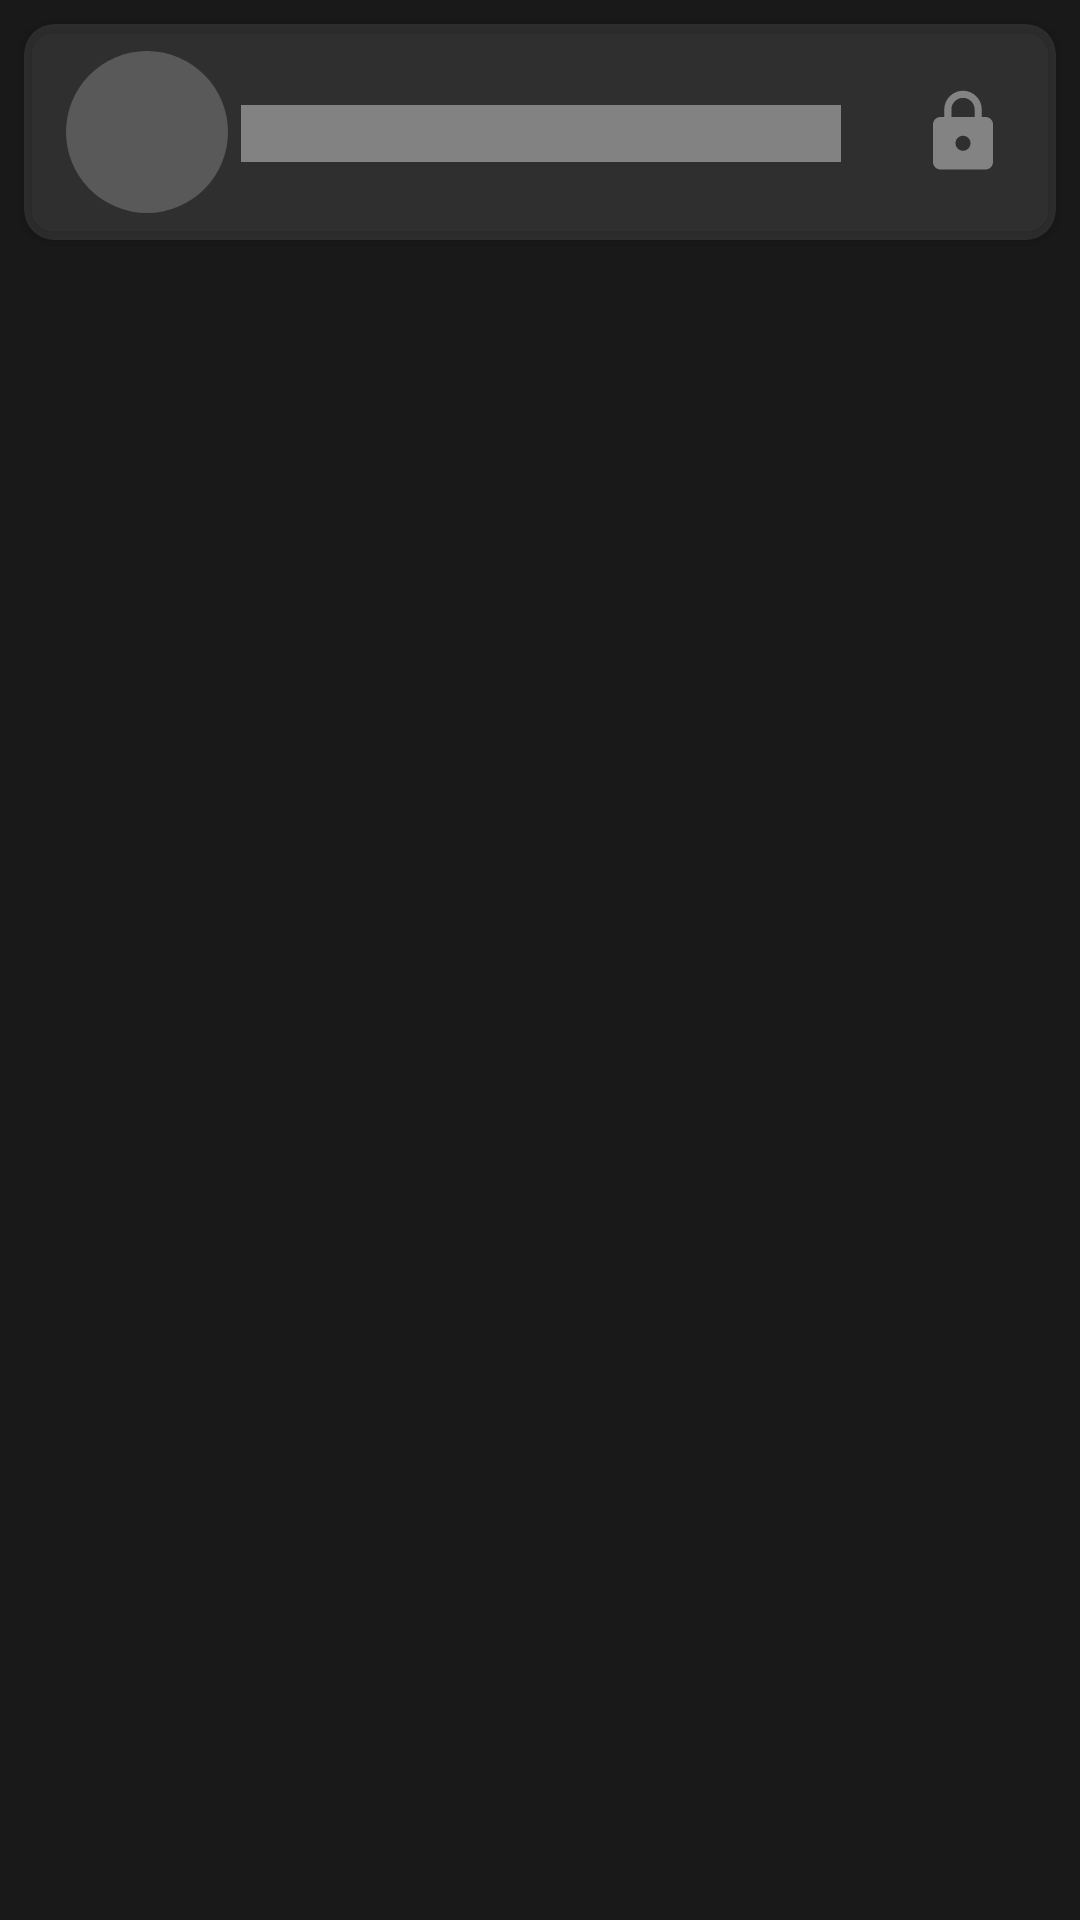

Icon click points for this 1080w x 1920h phone screenshot, format (x=x, y=y):
lock card: (x=963, y=130)
